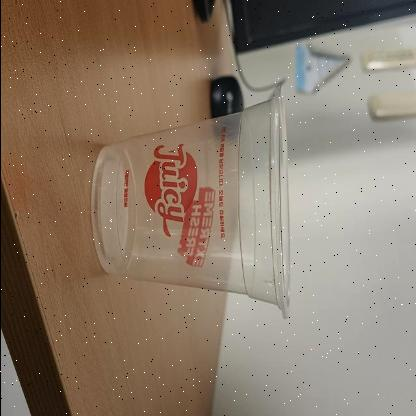Others: (91, 80, 293, 318)
